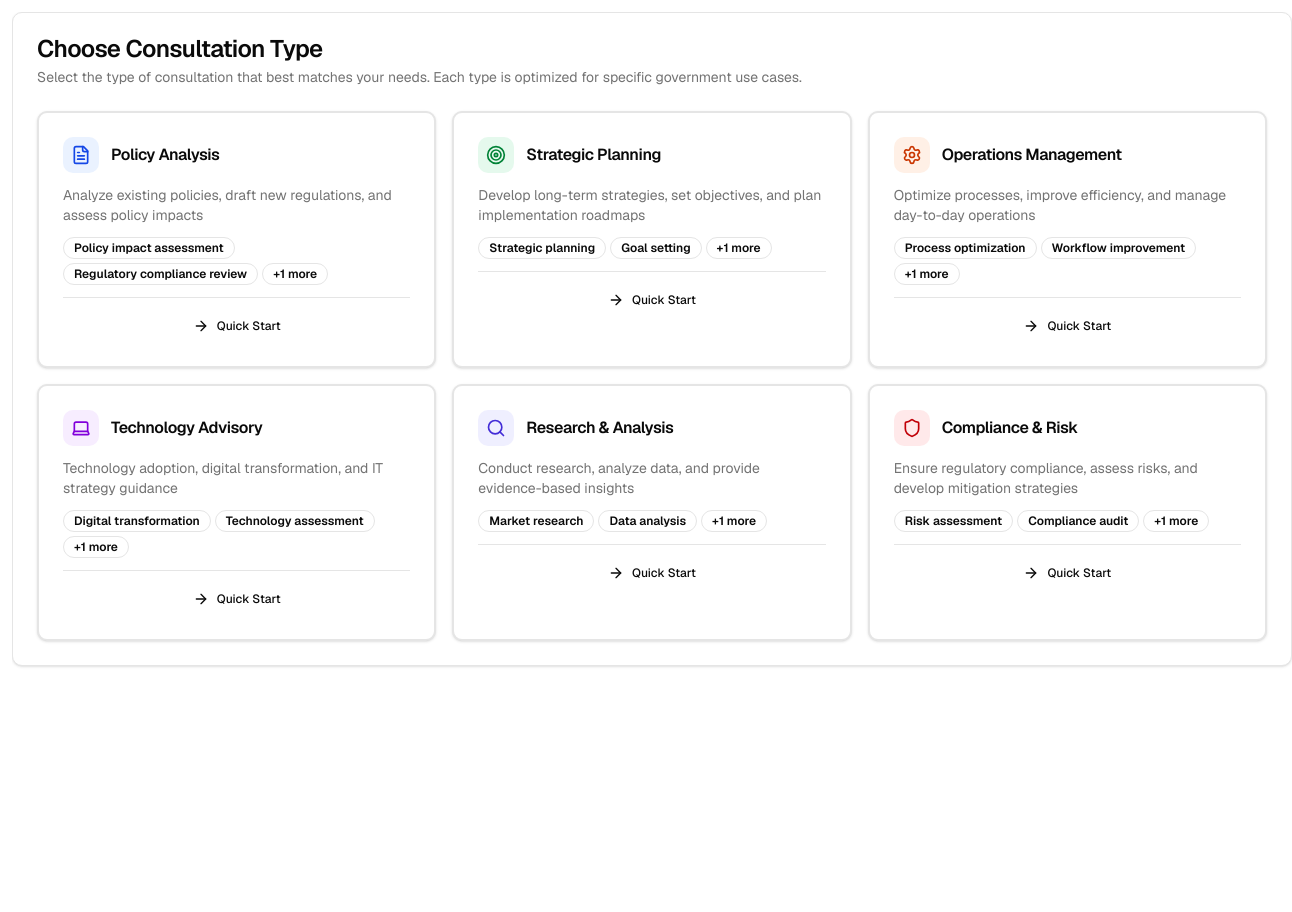
Scenario: ConsultationTypeSelector › shows detailed form when type is selected
What coordinates should you click on to do the following:
click the text "Policy Analysis"
I would click on:
 (165, 154)
Its box is [111,144,219,165].
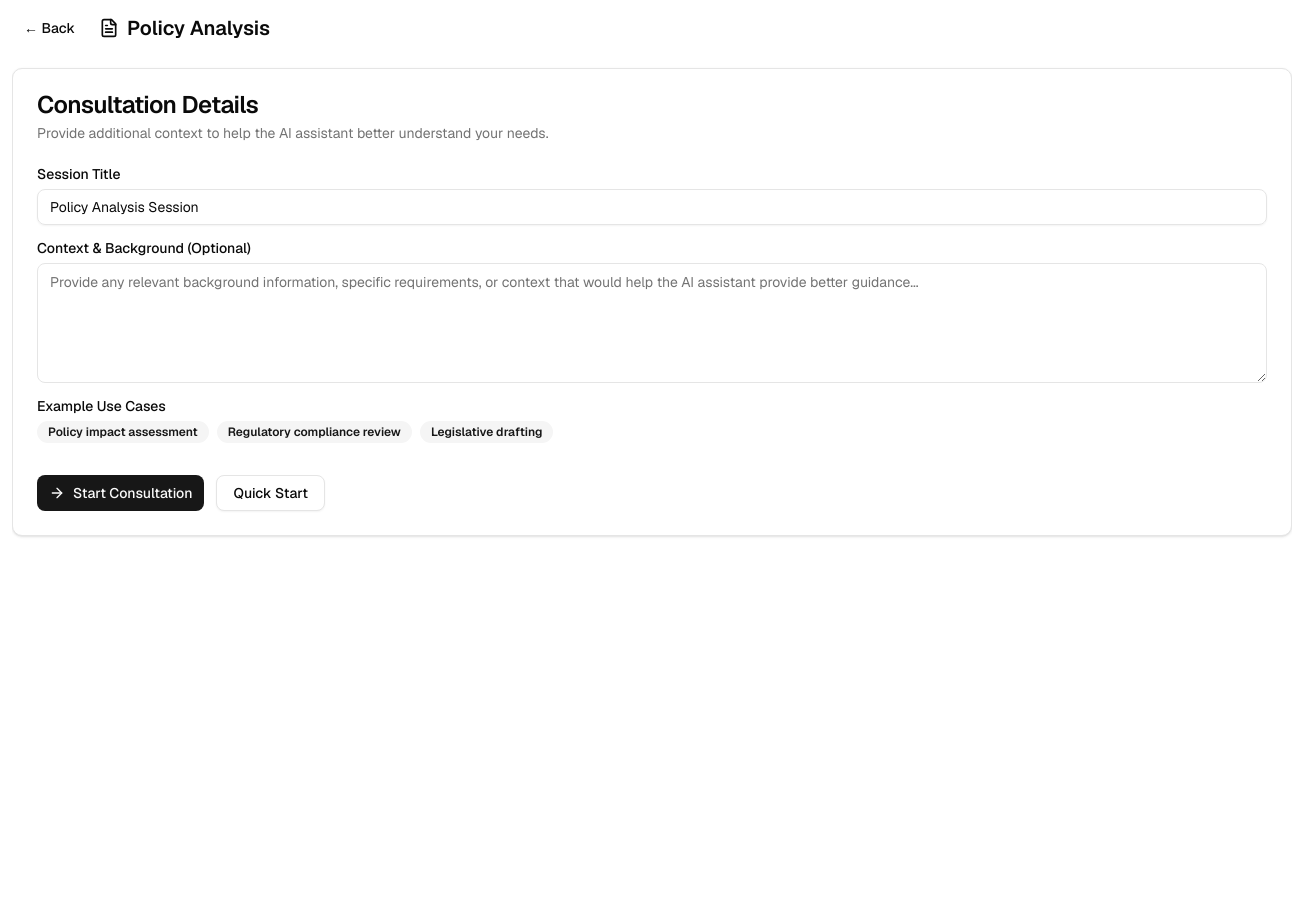
Expected: the heading "Consultation Details" is shown, [37,89,258,120]
Expected: the field labelled "Session Title" is shown, [37,189,1267,225]
Expected: the text box labelled "Context & Background (Optional)" is shown, [37,263,1267,383]
